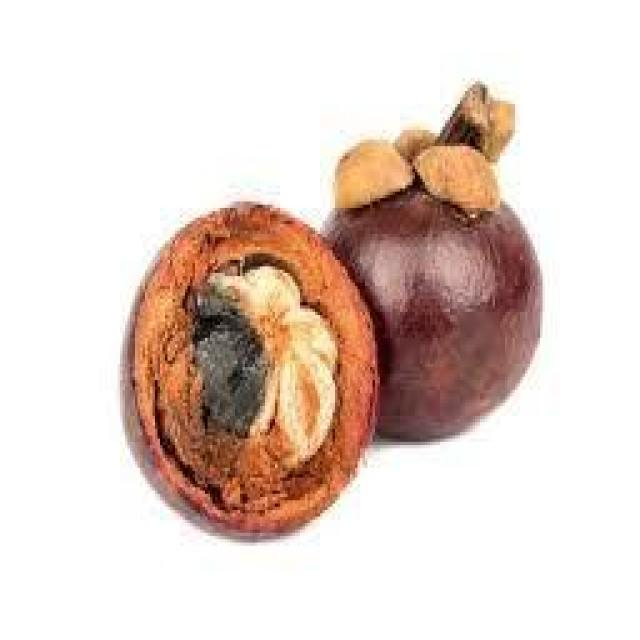organic: (120, 84, 545, 546)
